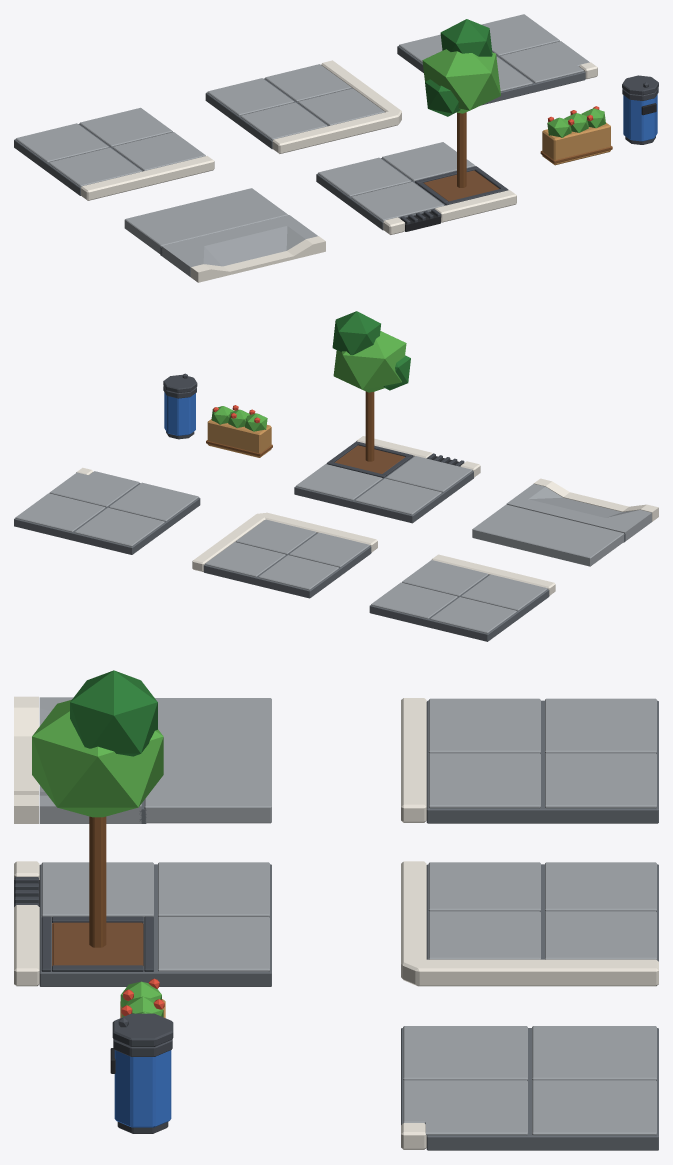
File: town-sidewalk-kit.glb
The picture shows the model from 3 angles, top to bottom: view 1: azimuth 30°, elevation 25°; view 2: azimuth 150°, elevation 25°; view 3: azimuth 270°, elevation 25°; orthographic projection. The views are drawn at different scales.
Parts seen in each view (by area): view 1: Sidewalk_DrainTreePit, Sidewalk_Driveway, Sidewalk_Straight, Sidewalk_CornerOutside, Sidewalk_CornerInside, Planter_Box, Bin, Bin_Lid; view 2: Sidewalk_DrainTreePit, Sidewalk_CornerOutside, Sidewalk_Straight, Sidewalk_CornerInside, Sidewalk_Driveway, Planter_Box, Bin, Bin_Lid; view 3: Sidewalk_DrainTreePit, Sidewalk_Straight, Sidewalk_CornerInside, Sidewalk_CornerOutside, Sidewalk_Driveway, Bin, Bin_Lid, Planter_Box.
Boxes of the visible parts, <box> form: Sidewalk_DrainTreePit: <box>316,19,516,234</box>; Sidewalk_Driveway: <box>124,188,325,282</box>; Sidewalk_Straight: <box>14,107,214,200</box>; Sidewalk_CornerOutside: <box>205,60,401,153</box>; Sidewalk_CornerInside: <box>397,14,597,105</box>; Planter_Box: <box>540,106,612,165</box>; Bin: <box>622,87,658,144</box>; Bin_Lid: <box>622,75,658,95</box>; Sidewalk_DrainTreePit: <box>294,311,480,523</box>; Sidewalk_CornerOutside: <box>192,512,377,598</box>; Sidewalk_Straight: <box>369,554,555,641</box>; Sidewalk_CornerInside: <box>14,467,200,554</box>; Sidewalk_Driveway: <box>472,478,658,566</box>; Planter_Box: <box>206,405,272,457</box>; Bin: <box>163,386,196,439</box>; Bin_Lid: <box>163,373,197,393</box>; Sidewalk_DrainTreePit: <box>14,670,271,986</box>; Sidewalk_Straight: <box>401,698,658,823</box>; Sidewalk_CornerInside: <box>401,1026,658,1150</box>; Sidewalk_CornerOutside: <box>401,861,658,986</box>; Sidewalk_Driveway: <box>14,696,271,823</box>; Bin: <box>110,1039,172,1133</box>; Bin_Lid: <box>112,1013,173,1046</box>; Planter_Box: <box>120,978,165,1017</box>.
Bounding box in the file's own units: 32 × 10.2 × 20.
